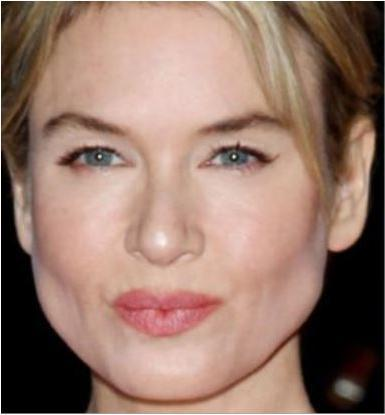Sober: (39, 16, 310, 370)
